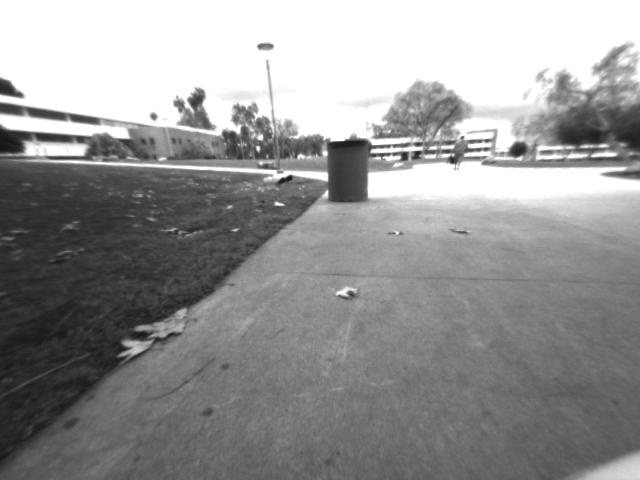trashcan: (326, 138, 370, 201)
